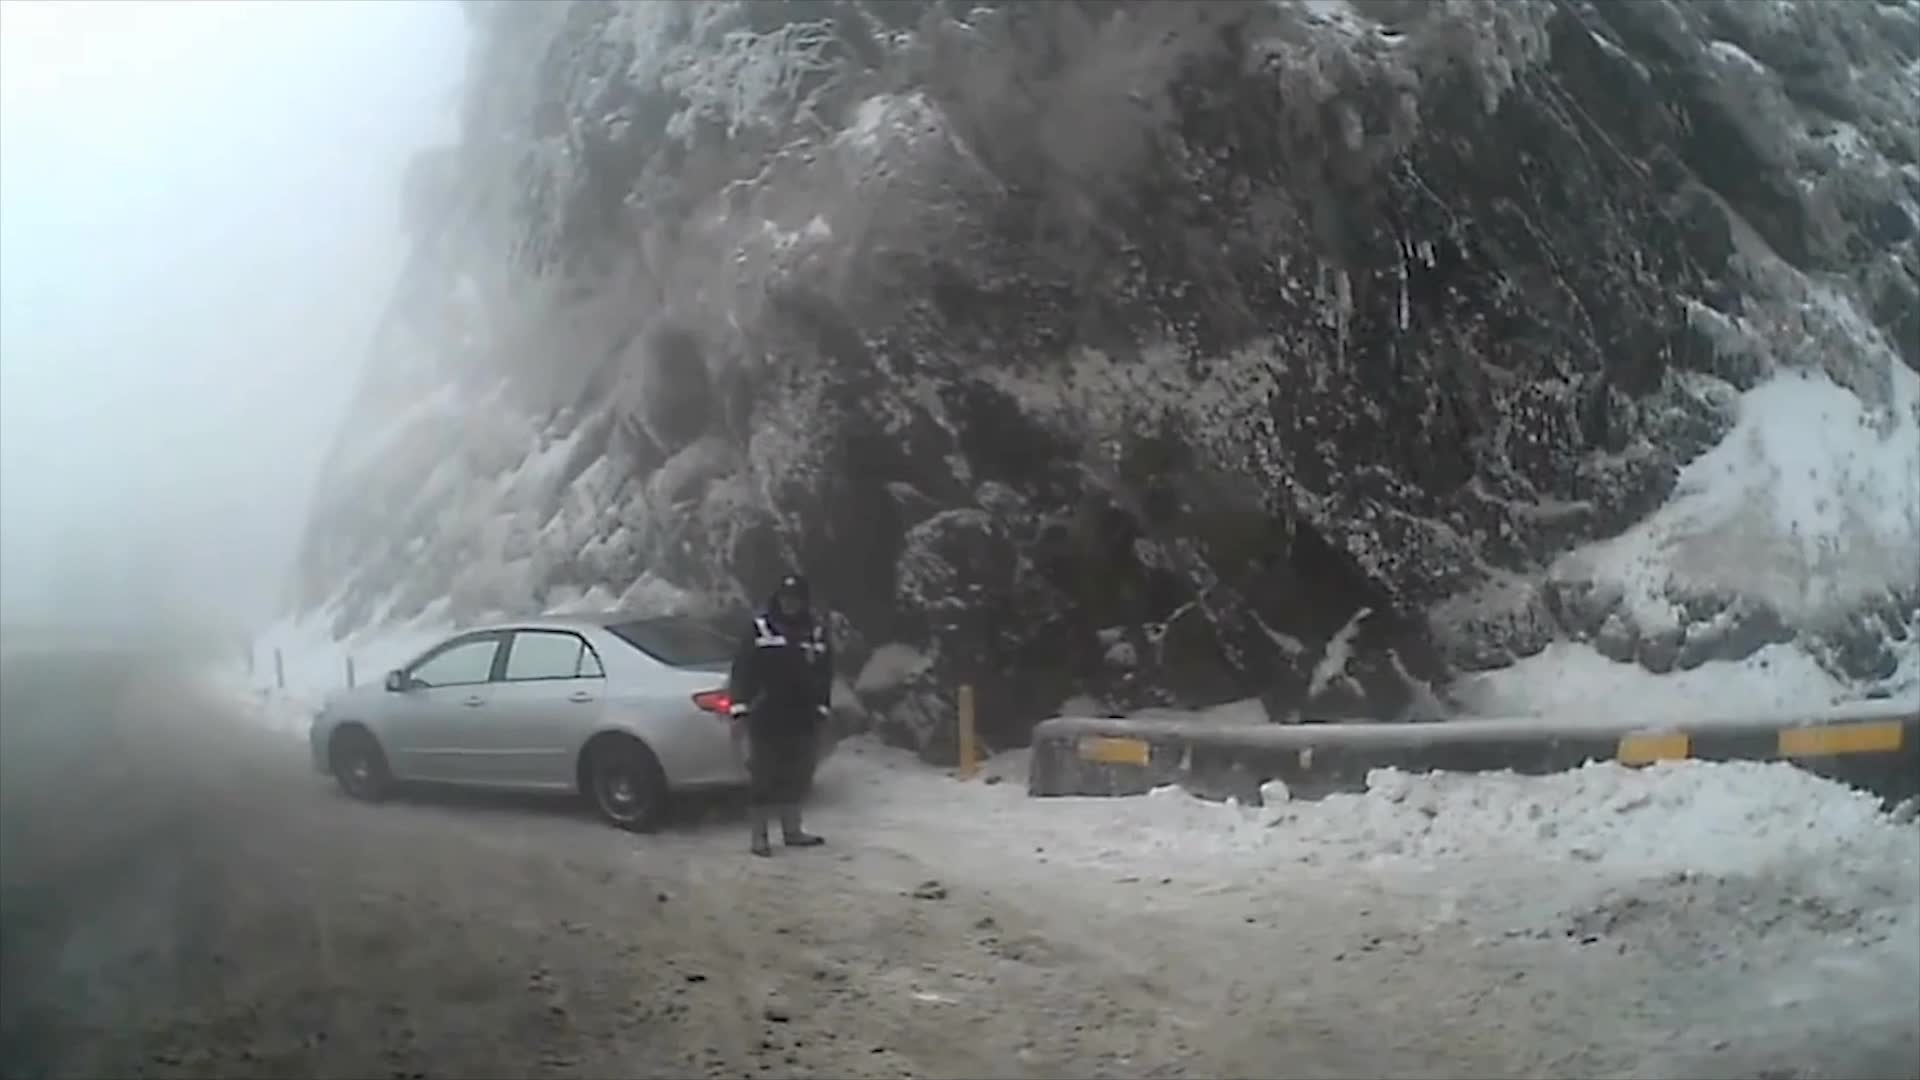pedestrian: (725, 577, 833, 861)
vehicle: (307, 606, 830, 834)
